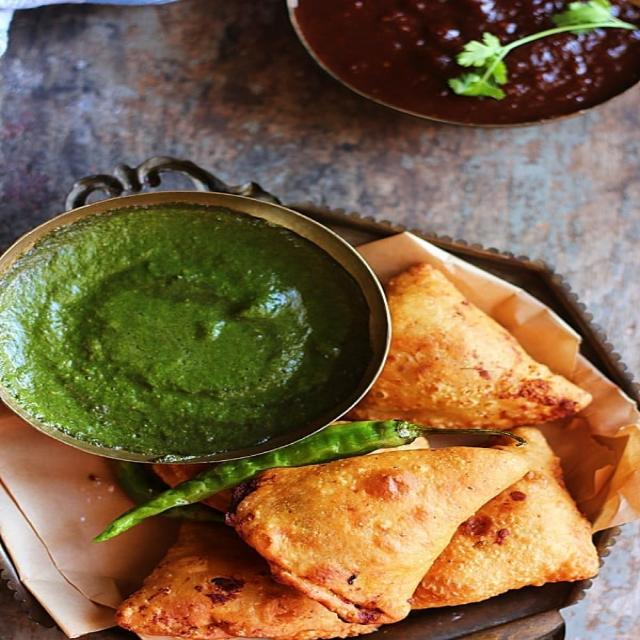SAMOSA: (105, 423, 602, 639), (341, 256, 601, 432)
